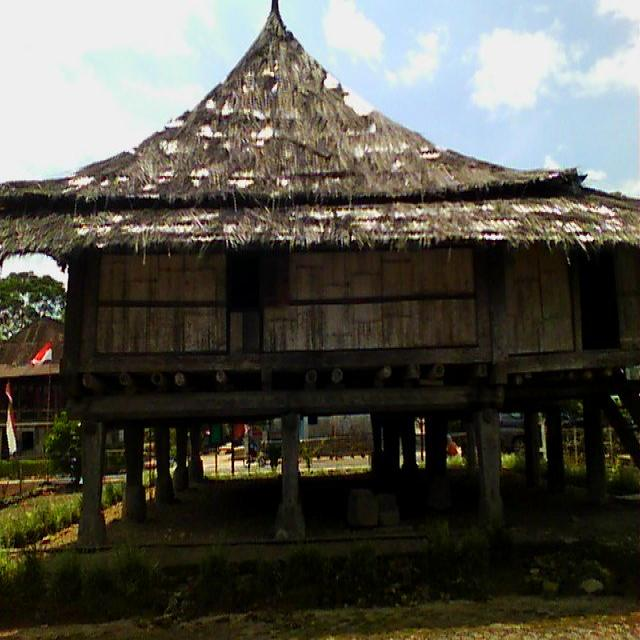Tembok Bangunan: (64, 244, 639, 377)
